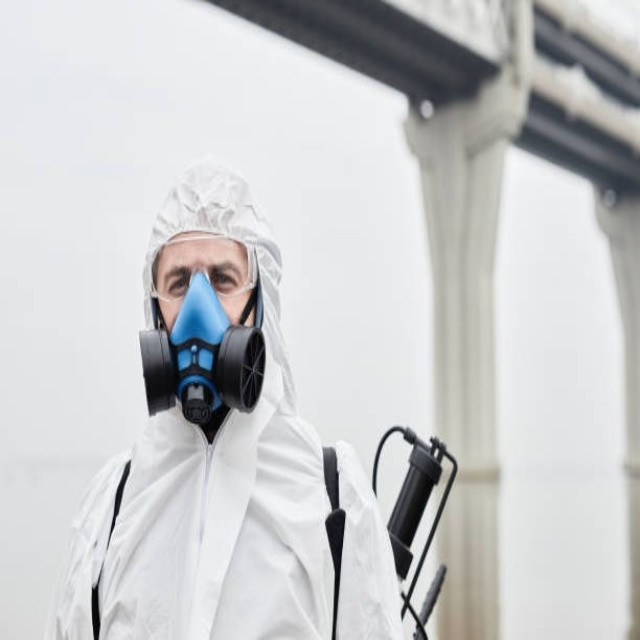Gafas: (152, 249, 259, 305)
Mascara: (142, 256, 266, 423)
